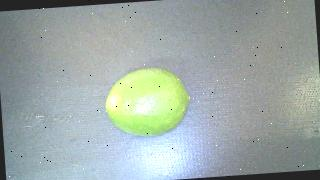EXPORTACION: (103, 66, 192, 139)
